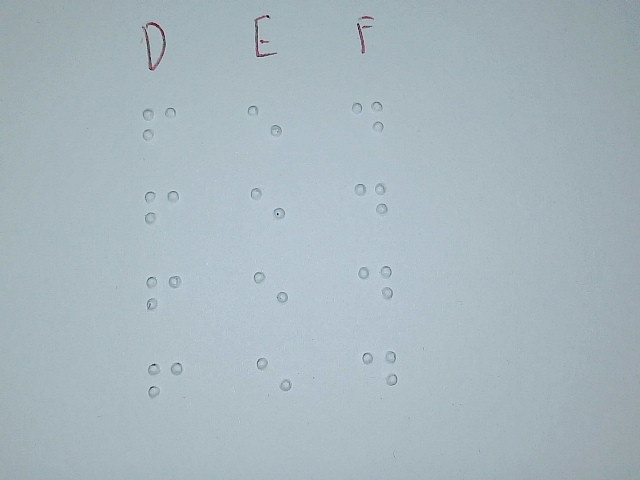D: (350, 86, 387, 151), (352, 171, 389, 236), (356, 253, 393, 318), (361, 338, 398, 403)
E: (246, 91, 285, 159), (248, 174, 287, 242), (252, 258, 291, 326), (255, 342, 294, 410)
F: (140, 93, 178, 162), (142, 175, 180, 244), (144, 260, 182, 329), (146, 345, 184, 414)
